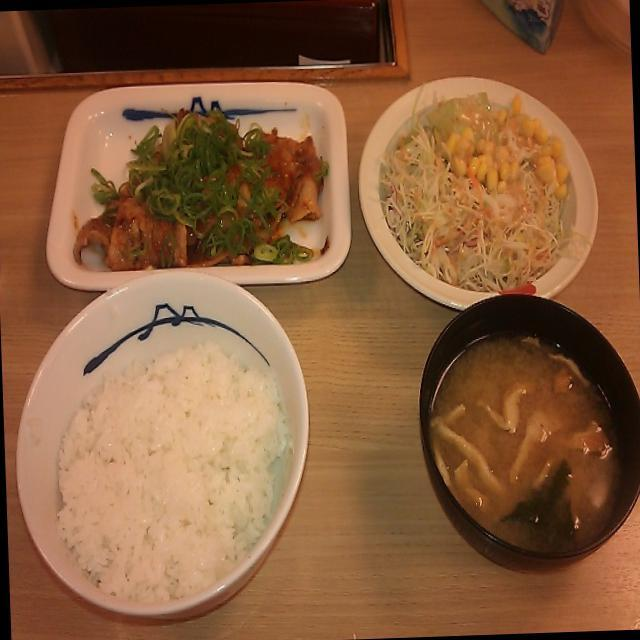Rice: (48, 326, 294, 609)
